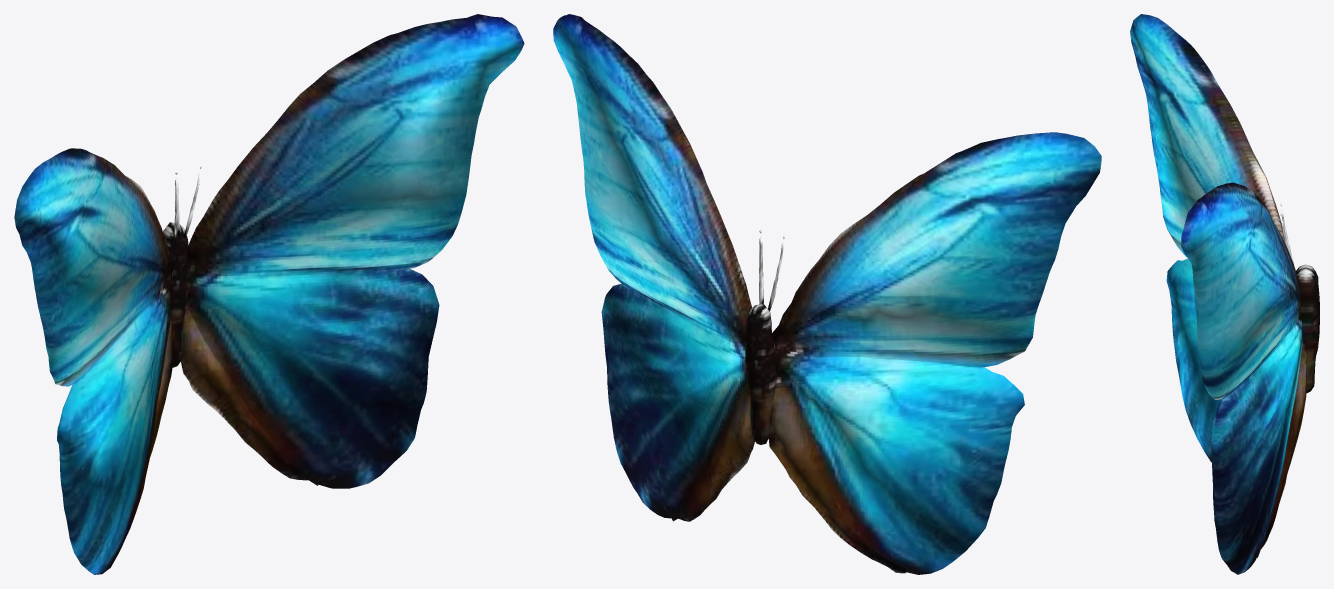
File: pick-classic.glb
3 views of the same model, side by side, from view 1: azimuth 30°, elevation 25°; view 2: azimuth 150°, elevation 25°; view 3: azimuth 270°, elevation 25° (orthographic). The views are drawn at different scales.
Parts seen in each view (by area): view 1: Object_2; view 2: Object_2; view 3: Object_2.
Boxes of the visible parts, x1,y1,x2,y2 form: Object_2: (14,14,524,574); Object_2: (553,14,1101,574); Object_2: (1130,14,1319,574).
Bounding box in the file's own units: 164 × 139 × 56.22.
Materials: 1 (1 with a texture image).
